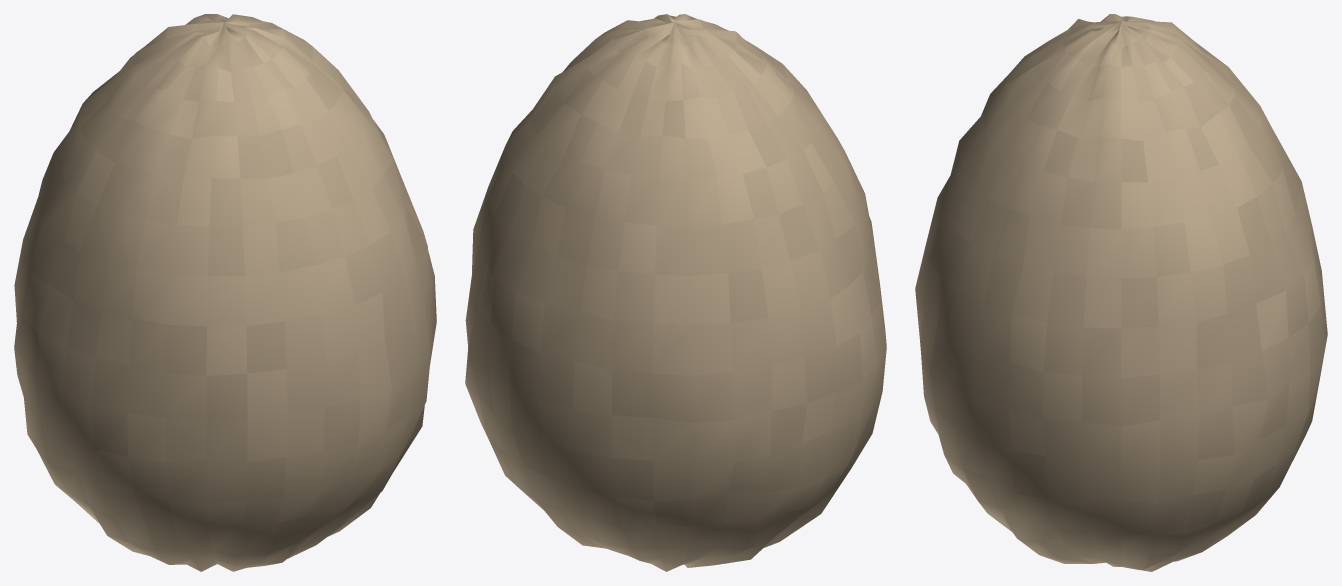
Rendered from ChickenEgg.glb.
3 renders of one model, left to right at view 1: azimuth 30°, elevation 25°; view 2: azimuth 150°, elevation 25°; view 3: azimuth 270°, elevation 25°, orthographic.
Visible parts, largest first — view 1: ChickenEgg; view 2: ChickenEgg; view 3: ChickenEgg.
Boxes of the visible parts, x1,y1,x2,y2 form: ChickenEgg: (14, 14, 436, 571); ChickenEgg: (465, 14, 886, 571); ChickenEgg: (915, 14, 1327, 571).
Size of what is drawn, in the model's own units: 0.0451 by 0.0612 by 0.0429.
